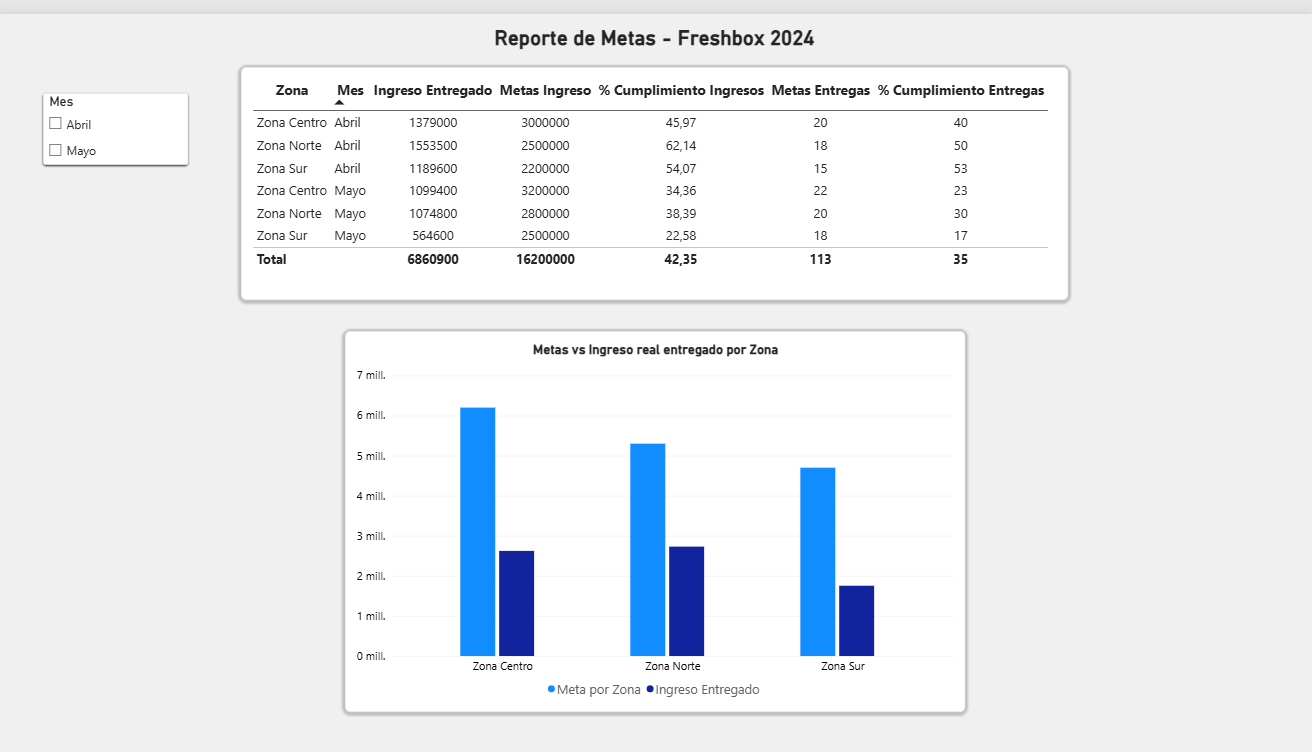

What the dashboard file says about the page in this screenshot:
{"tool":"powerbi","page":{"name":"Cumplimiento de metas","canvas":[1920,1080],"ordinal":2},"visuals":[{"type":"clusteredColumnChart","title":"Metas vs Ingreso real entregado por Zona","fields":{"Y":["Metas (2).Meta por Zona","Pedidos.Ingreso Entregado"],"Category":["Zonas.Zona"]},"box":[507.7,462.5,904.6,555.9],"z":0},{"type":"slicer","fields":{"Values":["Meses.Mes"]},"box":[67.1,115.3,211.6,105],"z":1000},{"type":"tableEx","fields":{"Values":["Zonas.Zona","Meses.Mes","Pedidos.Ingreso Entregado","Sum(Metas (2).Meta_Ingreso)","Metas (2).% Cumplimiento Ingresos","Sum(Metas (2).Meta_Entregas)","Metas (2).% Cumplimiento Entregas"]},"box":[356,77.3,1206.6,339.9],"z":1001},{"type":"textbox","box":[1573,77,347,340],"z":1002},{"type":"textbox","title":"Reporte de Metas - Freshbox 2024","box":[710.5,17.5,497.5,42.3],"z":1003}]}

Visuals, with their boxes in screenshot pixels (x1, y1, x2, y2), scaled from the page's 1920x1080 canvas onto the 1312x752 screenshot:
"Metas vs Ingreso real entregado por Zona" clusteredColumnChart: region(347, 322, 965, 709)
slicer - Meses.Mes: region(46, 80, 190, 153)
tableEx - Zonas.Zona x Meses.Mes: region(243, 54, 1068, 290)
textbox: region(1075, 54, 1311, 290)
"Reporte de Metas - Freshbox 2024" textbox: region(486, 12, 825, 42)
